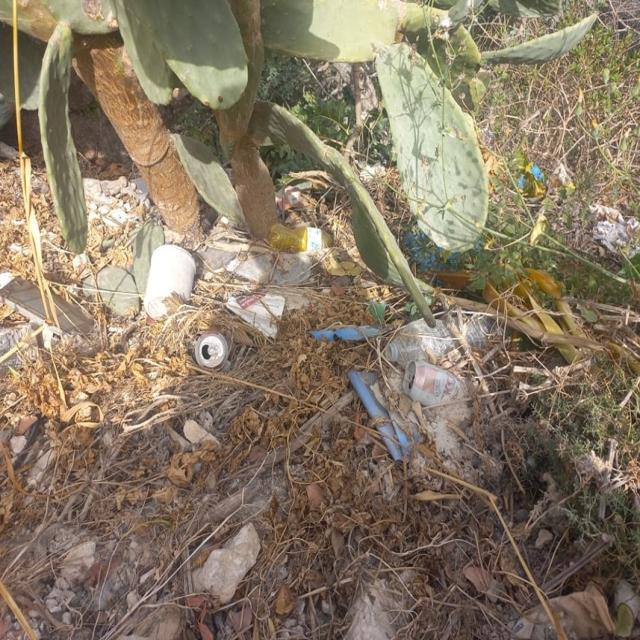Bottle: (386, 316, 504, 367), (270, 222, 332, 253)
Can: (404, 361, 473, 419), (195, 330, 229, 369)
Carton: (230, 292, 285, 347)
Other litter: (0, 271, 95, 371)
Other plastic: (344, 371, 424, 462), (143, 243, 197, 317), (407, 232, 483, 278), (311, 322, 382, 345), (518, 162, 544, 191)
